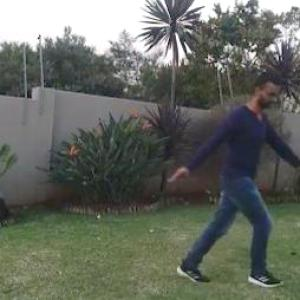land: (159, 61, 299, 293)
